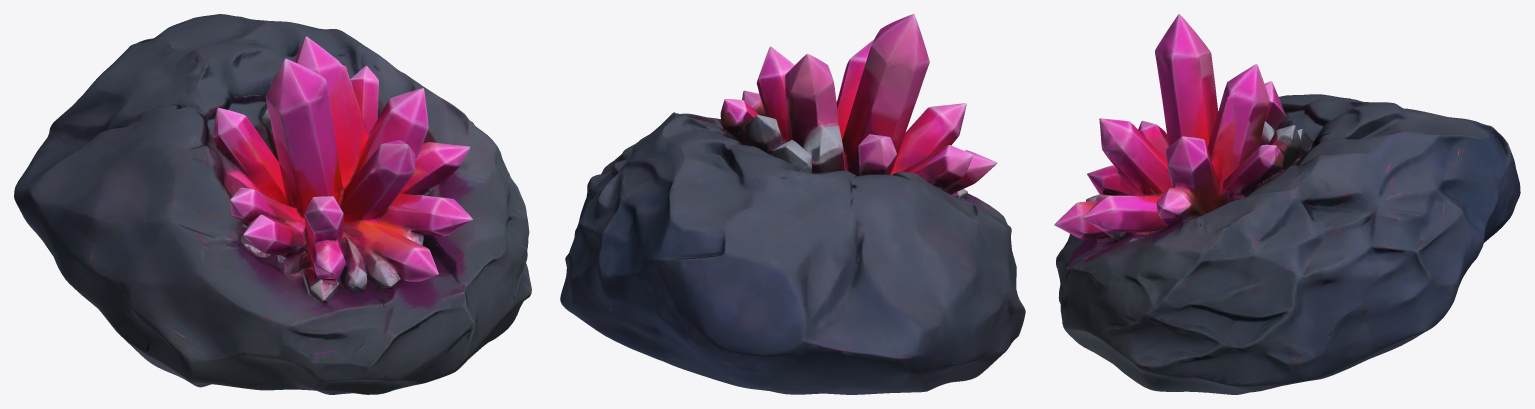
Rendered from model.opt.glb.
3 renders of one model, left to right at view 1: azimuth 30°, elevation 25°; view 2: azimuth 150°, elevation 25°; view 3: azimuth 270°, elevation 25°, orthographic. The views are drawn at different scales.
Size of the model in its own units: 1.83 by 1.48 by 2.
1 material, 1 textured.
